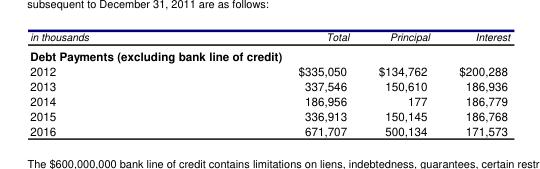table: (29, 29, 509, 137)
table column: (192, 29, 363, 137), (29, 29, 192, 137), (363, 29, 443, 137), (443, 29, 509, 137)
table column header: (29, 29, 509, 45)
table projected row header: (29, 45, 509, 63)
table row: (29, 45, 509, 63), (29, 29, 509, 45), (29, 77, 509, 92), (29, 92, 509, 107), (29, 107, 509, 122), (29, 122, 509, 137), (29, 63, 509, 77)
